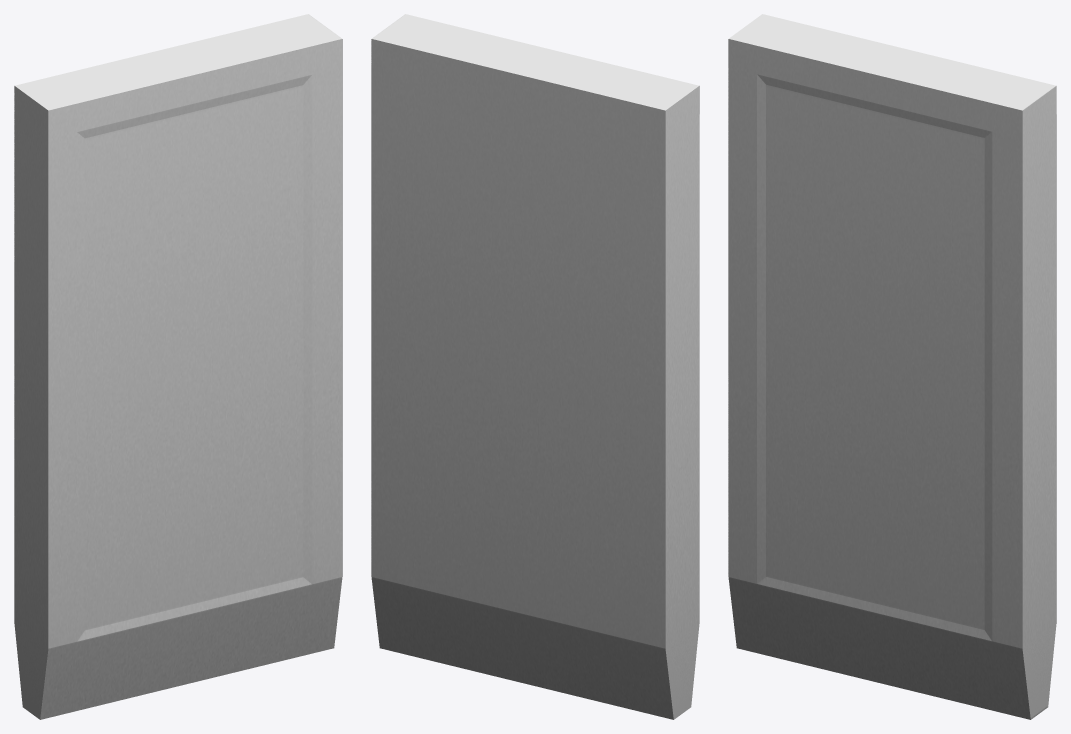
The model's file is simple_phone.gltf.
3 renders of one model, left to right at view 1: azimuth 30°, elevation 25°; view 2: azimuth 150°, elevation 25°; view 3: azimuth 330°, elevation 25°, orthographic.
Parts seen in each view (by area): view 1: Cube; view 2: Cube; view 3: Cube.
Boxes of the visible parts, x1,y1,x2,y2 form: Cube: (14, 14, 342, 719); Cube: (371, 14, 699, 719); Cube: (728, 14, 1056, 719).
Size of the model in its own units: 1 by 2 by 0.2.
Materials: 1 (1 with a texture image).
